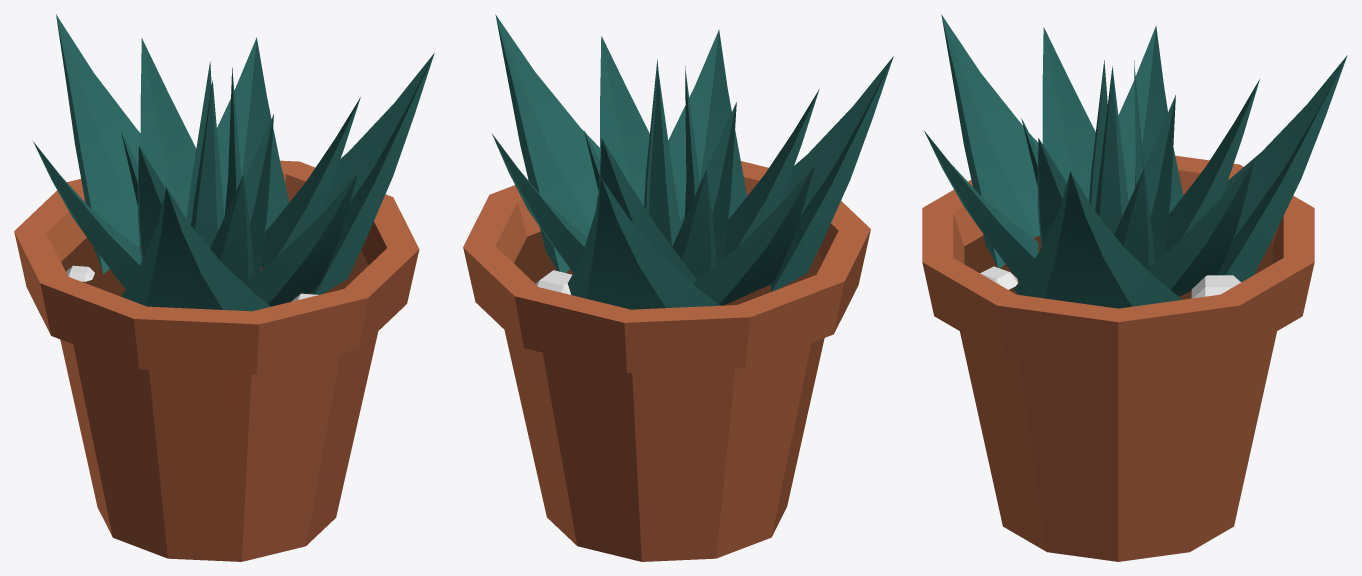
File: PW_sculent02_S.fbx
3 renders of one model, left to right at view 1: azimuth 30°, elevation 25°; view 2: azimuth 150°, elevation 25°; view 3: azimuth 270°, elevation 25°, orthographic.
Visible parts, largest first — view 1: pot, plant, soil; view 2: pot, plant, soil, rock; view 3: pot, plant, rock, soil.
Boxes of the visible parts, x1=… form: pot: x1=14, y1=160, x2=419, y2=561; plant: x1=33, y1=14, x2=434, y2=311; soil: x1=61, y1=238, x2=368, y2=296; pot: x1=463, y1=161, x2=870, y2=561; plant: x1=492, y1=14, x2=893, y2=309; soil: x1=514, y1=231, x2=823, y2=305; rock: x1=535, y1=270, x2=571, y2=294; pot: x1=922, y1=155, x2=1314, y2=561; plant: x1=924, y1=14, x2=1347, y2=308; rock: x1=980, y1=266, x2=1240, y2=298; soil: x1=964, y1=235, x2=1272, y2=299.
Bounding box in the file's own units: 39.5 × 45.44 × 38.77.
Materials: 1 (1 with a texture image).
